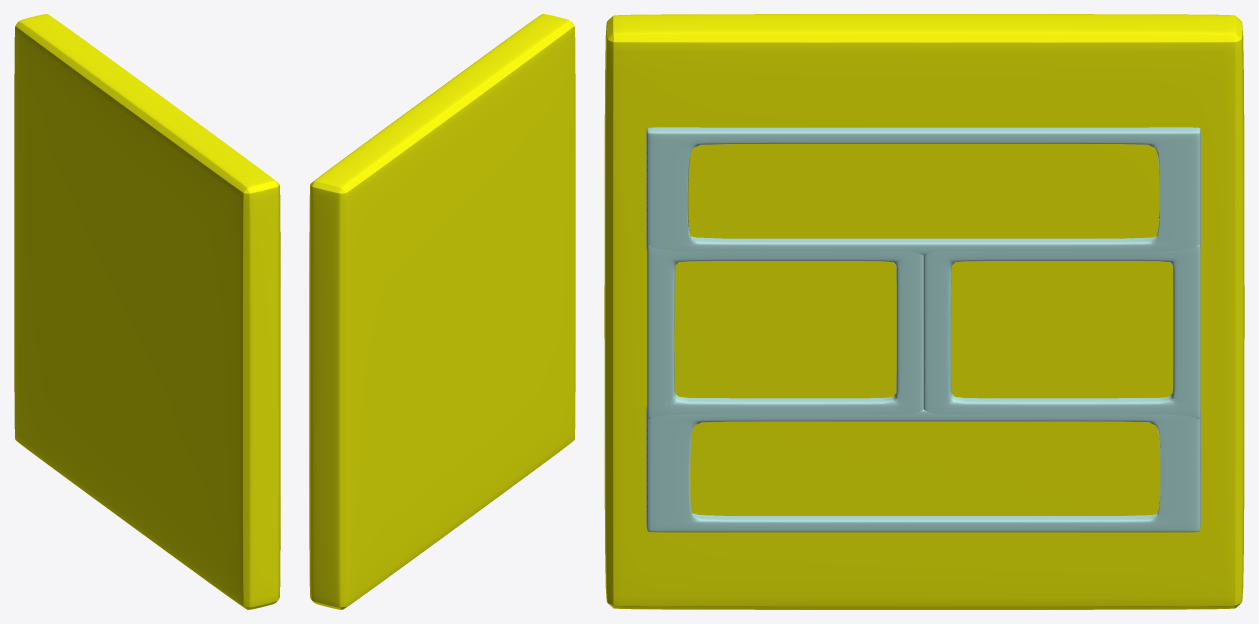
3 views of the same model, side by side, from view 1: azimuth 30°, elevation 25°; view 2: azimuth 150°, elevation 25°; view 3: azimuth 270°, elevation 25° (orthographic). The views are drawn at different scales.
Parts seen in each view (by area): view 1: polySurface1399; view 2: polySurface1399; view 3: polySurface1399.
Part boxes in pixels (x1=…): polySurface1399: x1=14, y1=14, x2=280, y2=609; polySurface1399: x1=309, y1=14, x2=575, y2=609; polySurface1399: x1=604, y1=14, x2=1244, y2=609.
Size of the model in its own units: 0.1171 by 0.9995 by 0.9995.
